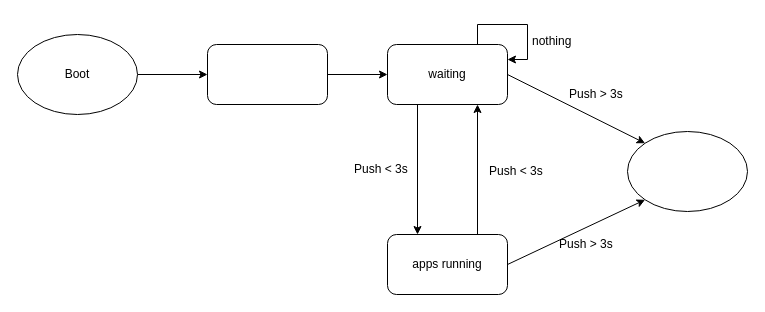
Some shapes in this 765 by 312 pixel diagram are drawn without their labels. The shapes that lost their labels are listed below. From the top down, each one's centre as x and y in pixels, then its label:
At pixel 267 74: "customSetup wifi started gnosis started scared mounted".
At pixel 687 171: "shut down".
